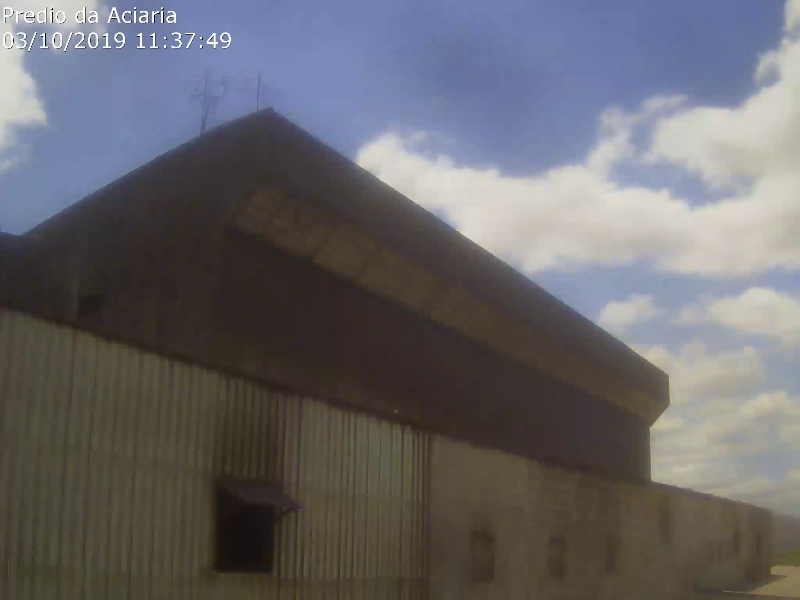bom: (263, 68, 696, 420), (12, 22, 269, 163)
